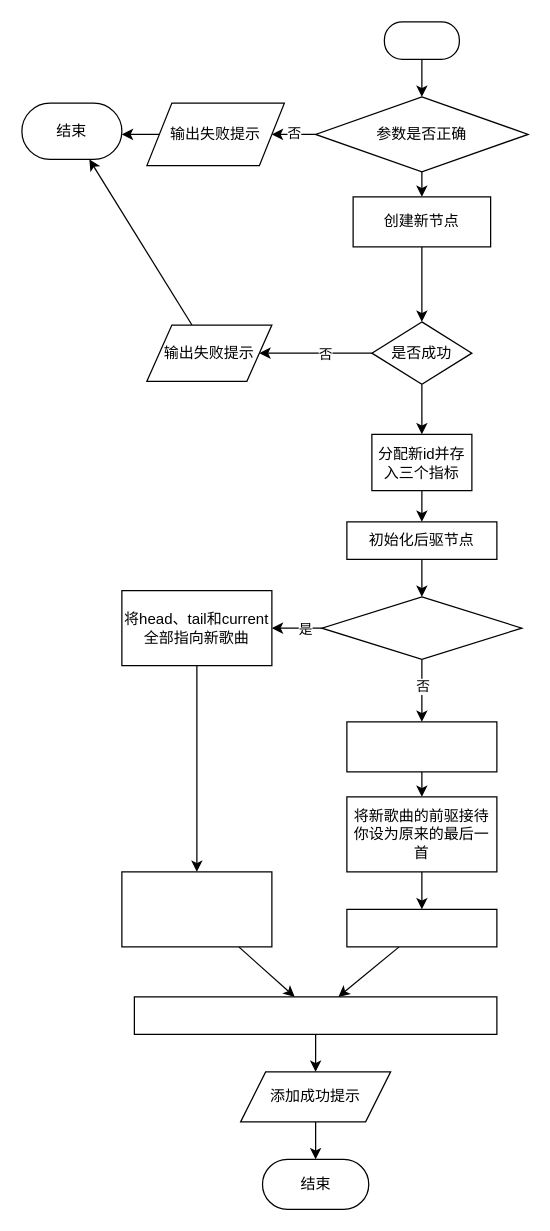
Image size: 550x1231. Some labels were removed from this diagram. Here are the shapes that lost their labels. From the top down, the centre of each, then its label:
At pixel 421 40: "开始".
At pixel 421 627: "列表是否为空".
At pixel 421 746: "在尾部添加歌曲".
At pixel 196 909: "将前驱节点设置为空节点".
At pixel 421 927: "更新tail".
At pixel 315 1015: "更新歌曲数".
